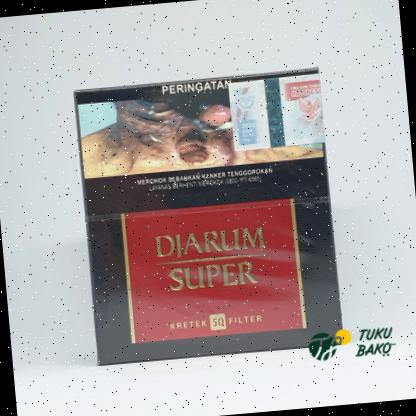bungkus rokok: (64, 36, 350, 373)
